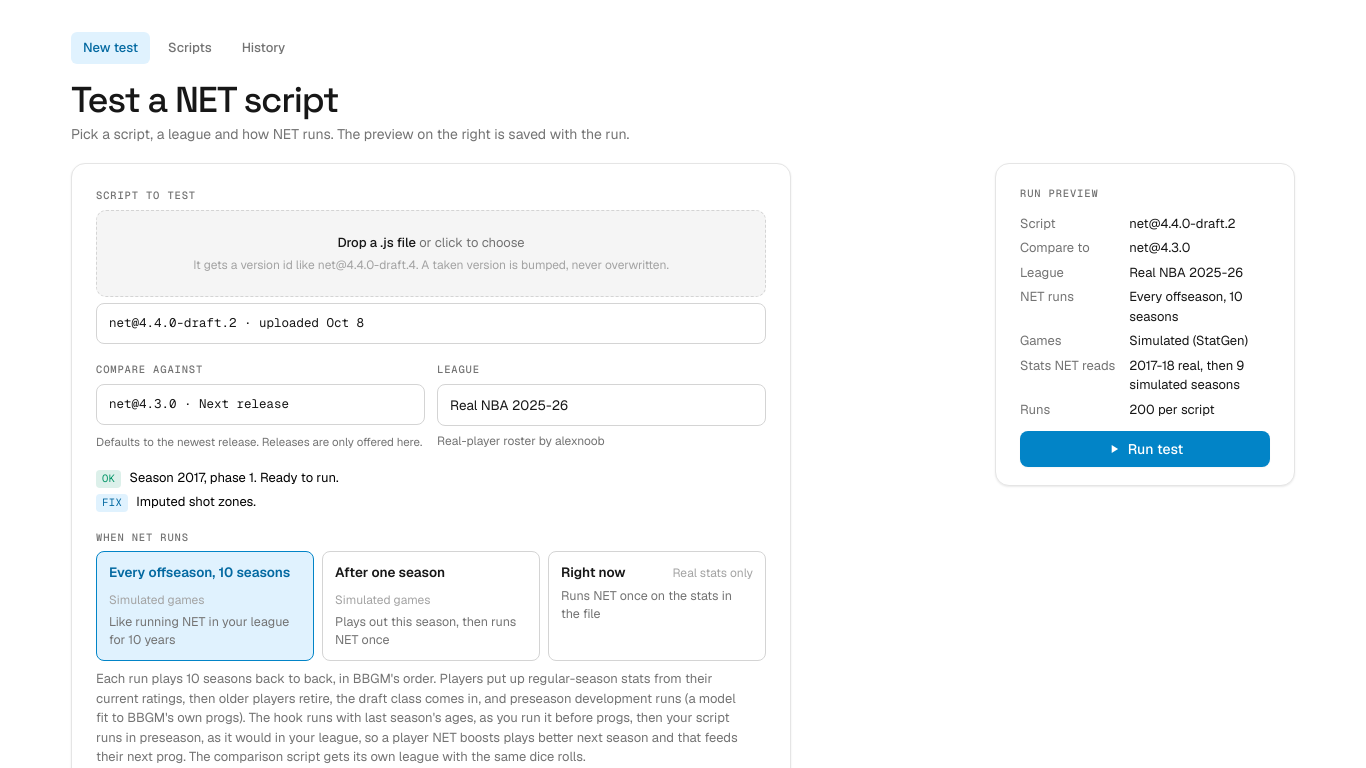
LabNewView › switches timing cards and warns about mid-season files in Right now mode
Click the radio button that starts with "Right now": point(657, 606) [548,552,766,661]
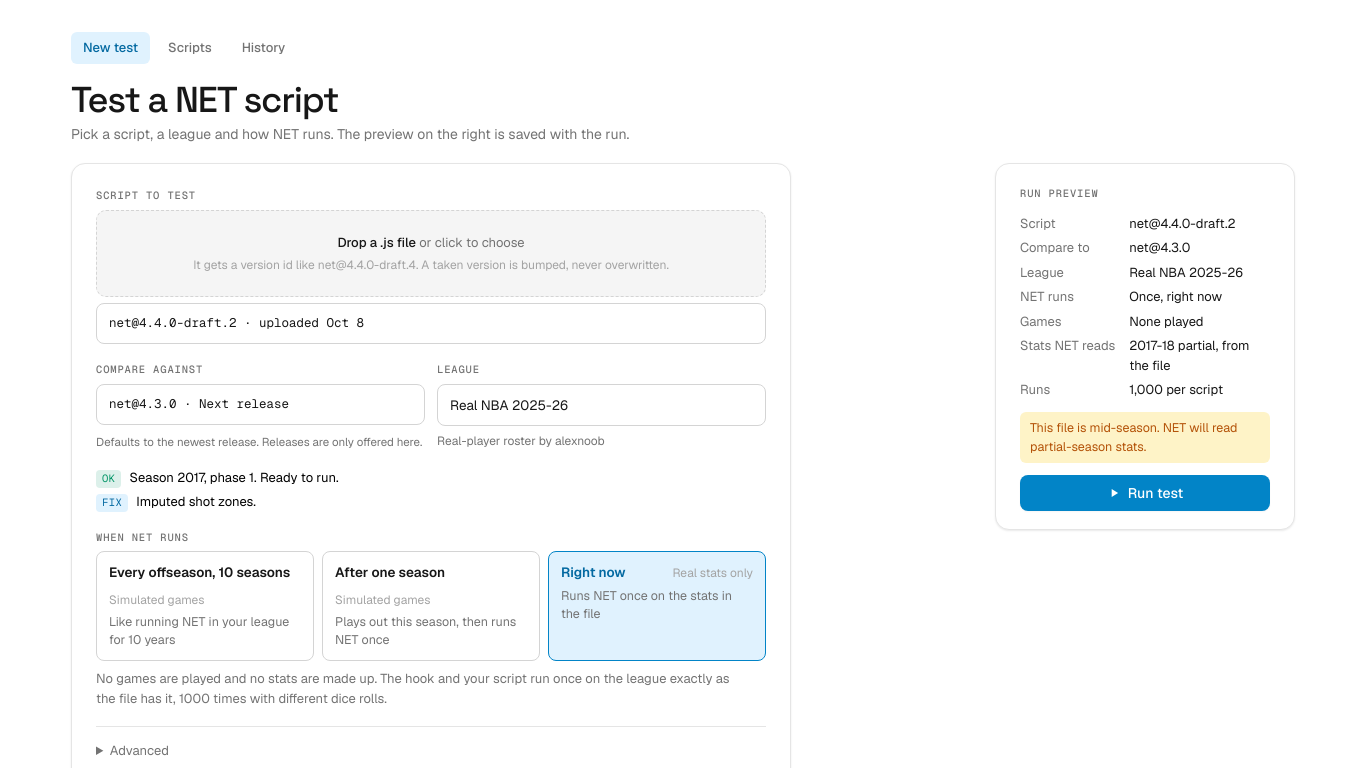
Expected: the text with test id "mid-season" reads "This file is mid-season. NET will read partial-season stats.", [1030,419,1238,455]
Expected: the element with test id "preview" shows "1,000 per script", [1129,382,1223,398]
Expected: the text with test id "mode-tip" shows "No games are played", [96,670,730,707]
Click the radio button that starts with "After one season": point(431, 606) [322,552,540,661]
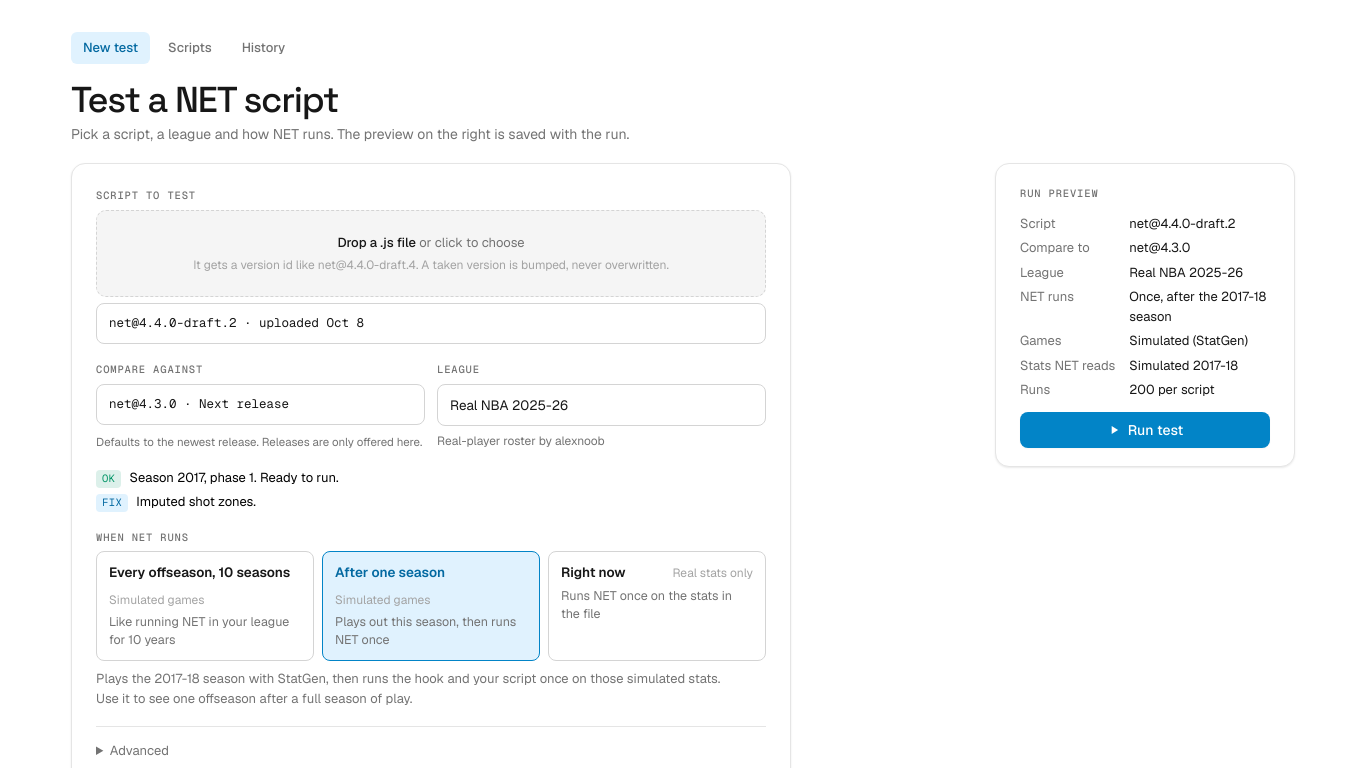
Expected: the element with test id "preview" shows "Once, after the 2017-18 season", [1129,288,1266,325]
